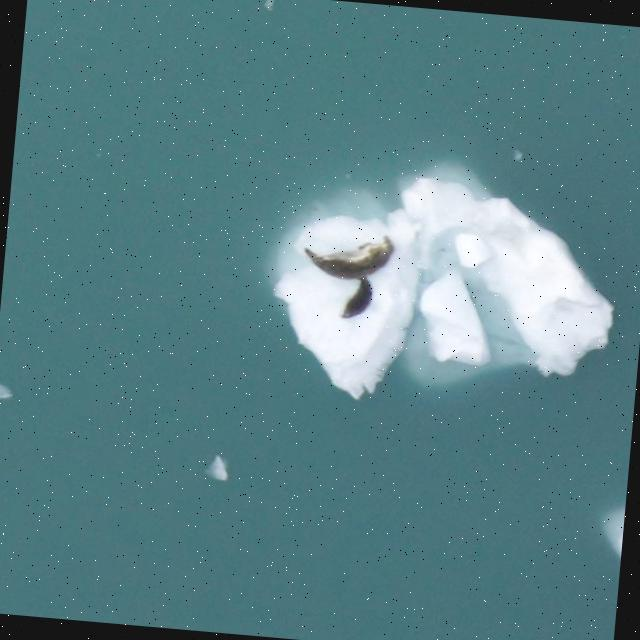seal: (303, 226, 401, 289), (339, 269, 379, 325)
